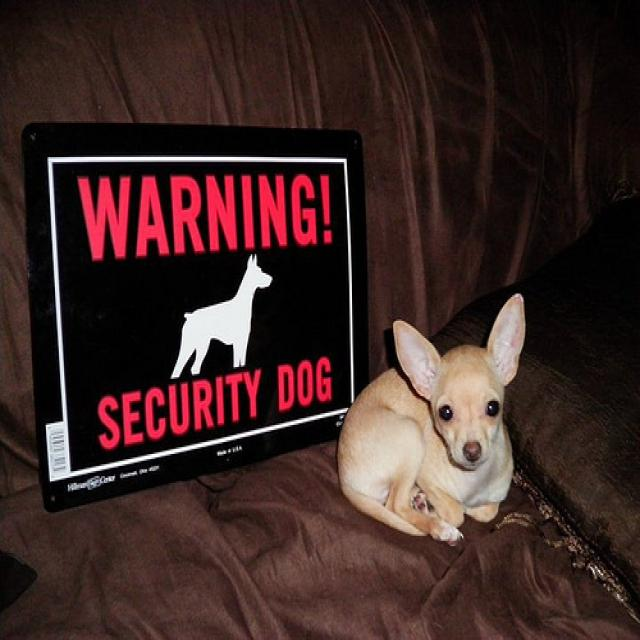dog-chihuahua: (326, 288, 530, 551)
